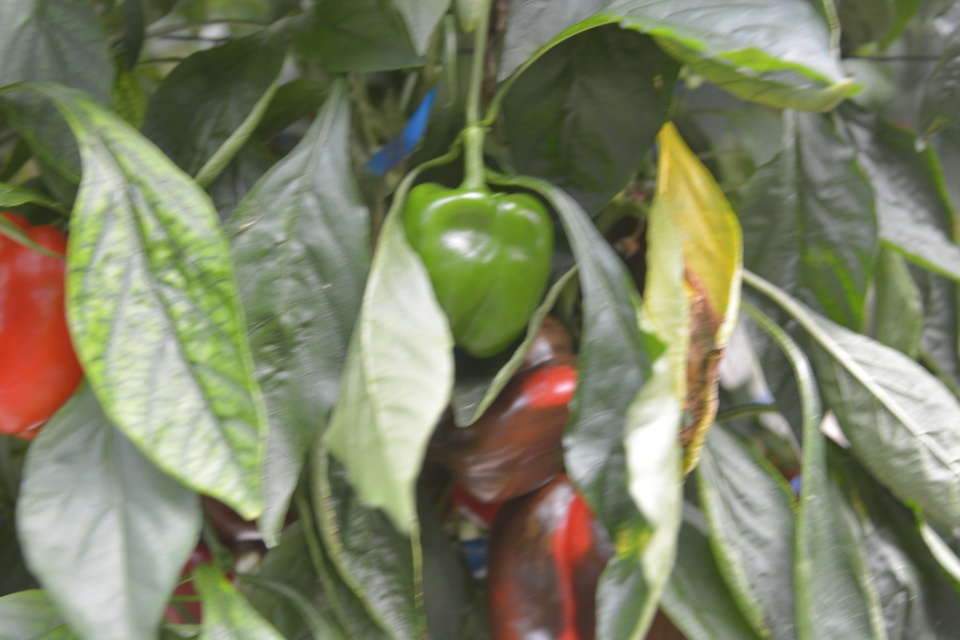fruit: (484, 472, 683, 640), (442, 315, 580, 530), (400, 172, 556, 359), (0, 207, 89, 445), (156, 492, 299, 640)
